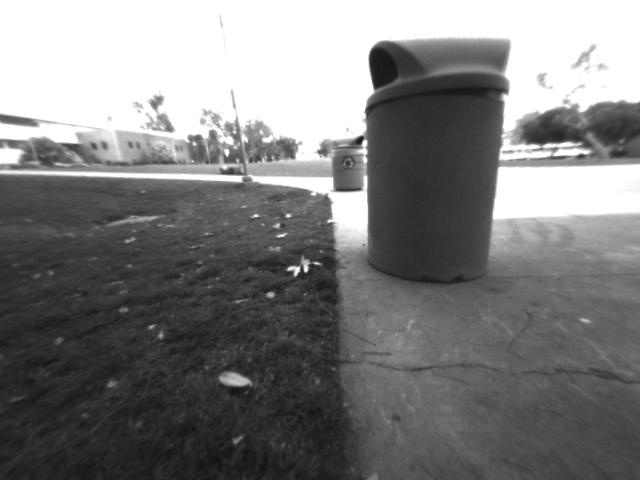trashcan: (355, 28, 510, 291)
